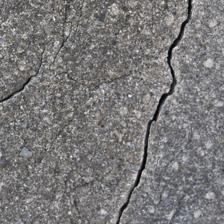Crack: (115, 7, 200, 221)
